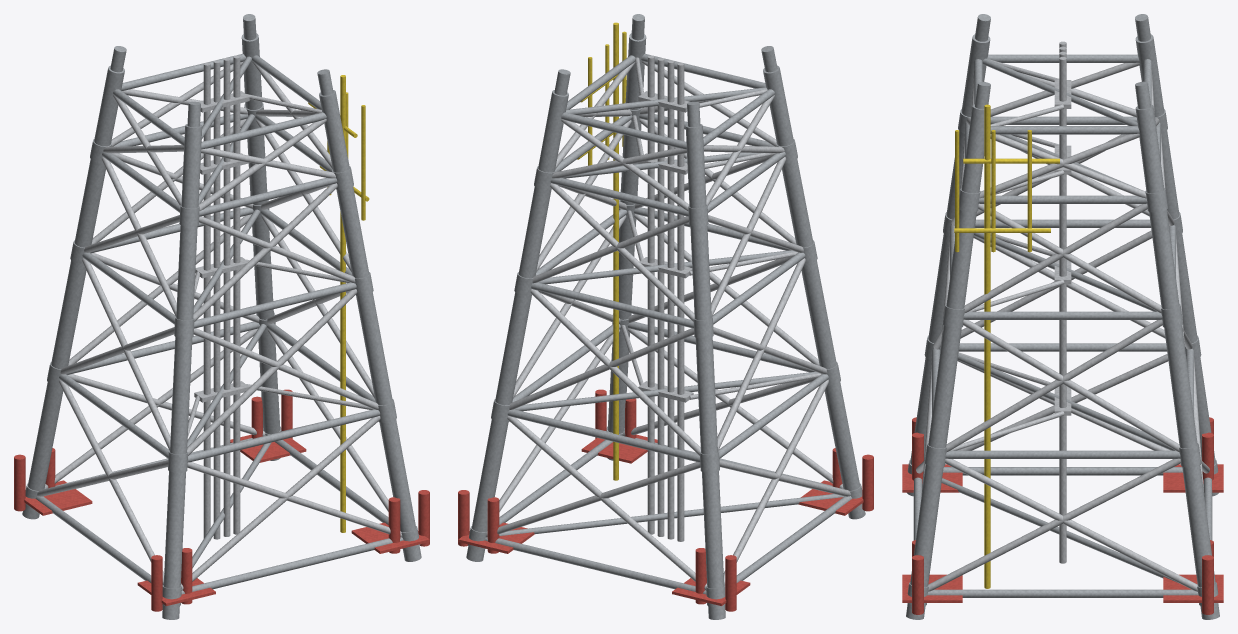
The model's file is jackets-legs-and-braces.glb.
The picture shows the model from 3 angles, left to right: view 1: azimuth 30°, elevation 25°; view 2: azimuth 150°, elevation 25°; view 3: azimuth 270°, elevation 25°; orthographic projection. The views are drawn at different scales.
Parts seen in each view (by area): view 1: X-Braces, JacketLegs, HorizontalFrames&NodeCans, ConductorGuides&Risers, Mudmats&PileSleeves, BoatLanding&Riser; view 2: X-Braces, HorizontalFrames&NodeCans, JacketLegs, ConductorGuides&Risers, Mudmats&PileSleeves, BoatLanding&Riser; view 3: HorizontalFrames&NodeCans, JacketLegs, X-Braces, ConductorGuides&Risers, Mudmats&PileSleeves, BoatLanding&Riser.
Part boxes in pixels (left/top/right/bottom): X-Braces: left=37, top=61, right=402, bottom=590; JacketLegs: left=22, top=14, right=421, bottom=619; HorizontalFrames&NodeCans: left=25, top=53, right=420, bottom=606; ConductorGuides&Risers: left=187, top=55, right=373, bottom=540; Mudmats&PileSleeves: left=14, top=389, right=429, bottom=611; BoatLanding&Riser: left=308, top=75, right=369, bottom=532; X-Braces: left=485, top=61, right=850, bottom=590; HorizontalFrames&NodeCans: left=467, top=53, right=862, bottom=606; JacketLegs: left=466, top=14, right=865, bottom=619; ConductorGuides&Risers: left=621, top=55, right=821, bottom=541; Mudmats&PileSleeves: left=458, top=389, right=873, bottom=611; BoatLanding&Riser: left=577, top=22, right=626, bottom=480; HorizontalFrames&NodeCans: left=907, top=54, right=1218, bottom=605; JacketLegs: left=906, top=14, right=1219, bottom=619; X-Braces: left=916, top=62, right=1209, bottom=591; ConductorGuides&Risers: left=951, top=41, right=1071, bottom=563; Mudmats&PileSleeves: left=902, top=417, right=1223, bottom=614; BoatLanding&Riser: left=954, top=104, right=1059, bottom=588.
Bounding box in the file's own units: 28 × 46.23 × 26.6.
4 materials, 4 textured.
